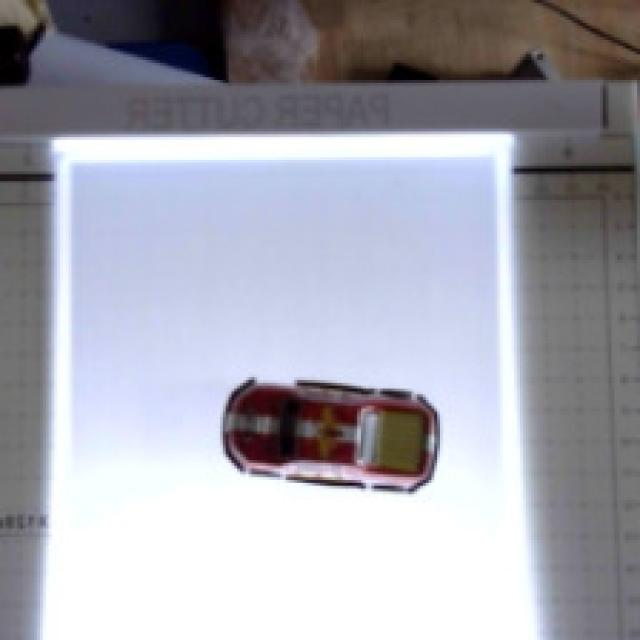Red Car: (210, 315, 462, 544)
